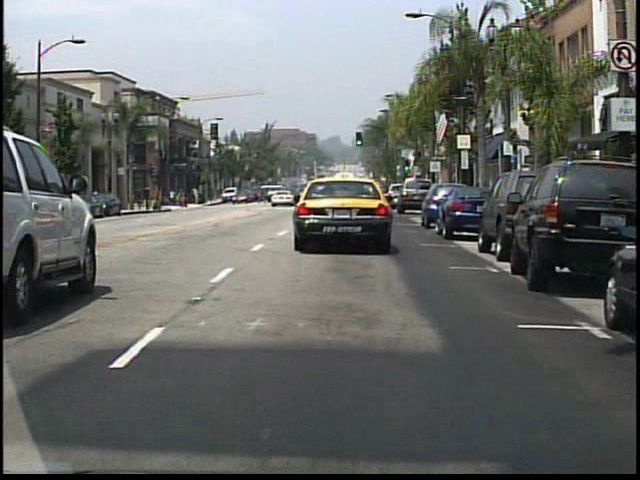person: (188, 189, 196, 209)
